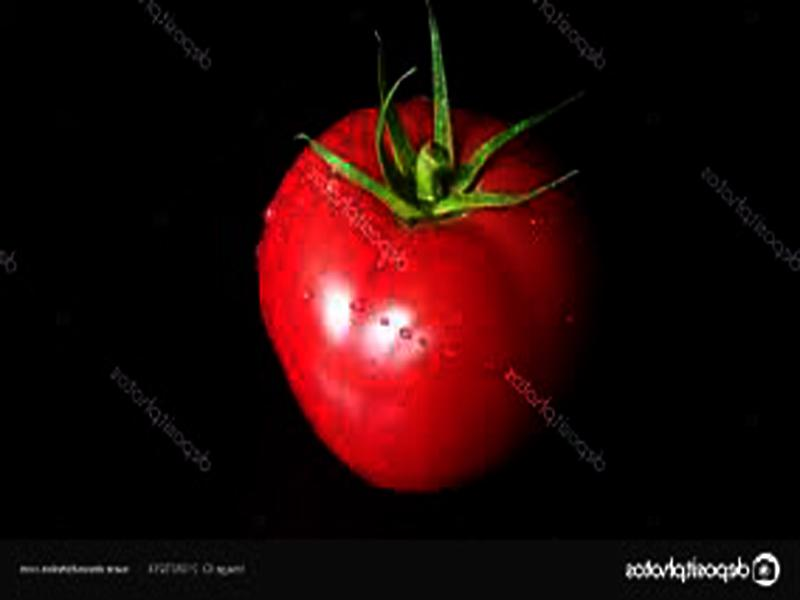Tomato: (255, 98, 599, 492)
